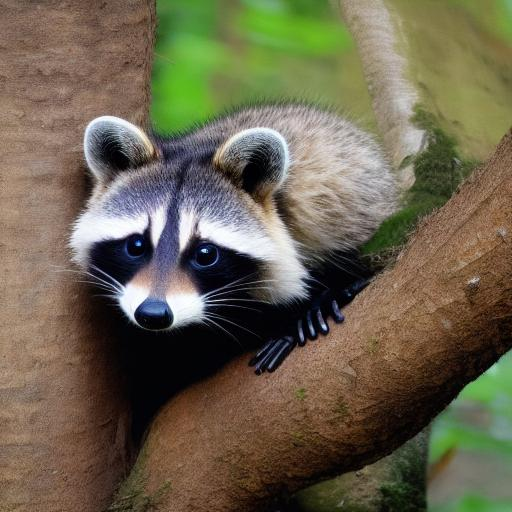raccoon: (54, 92, 406, 357)
